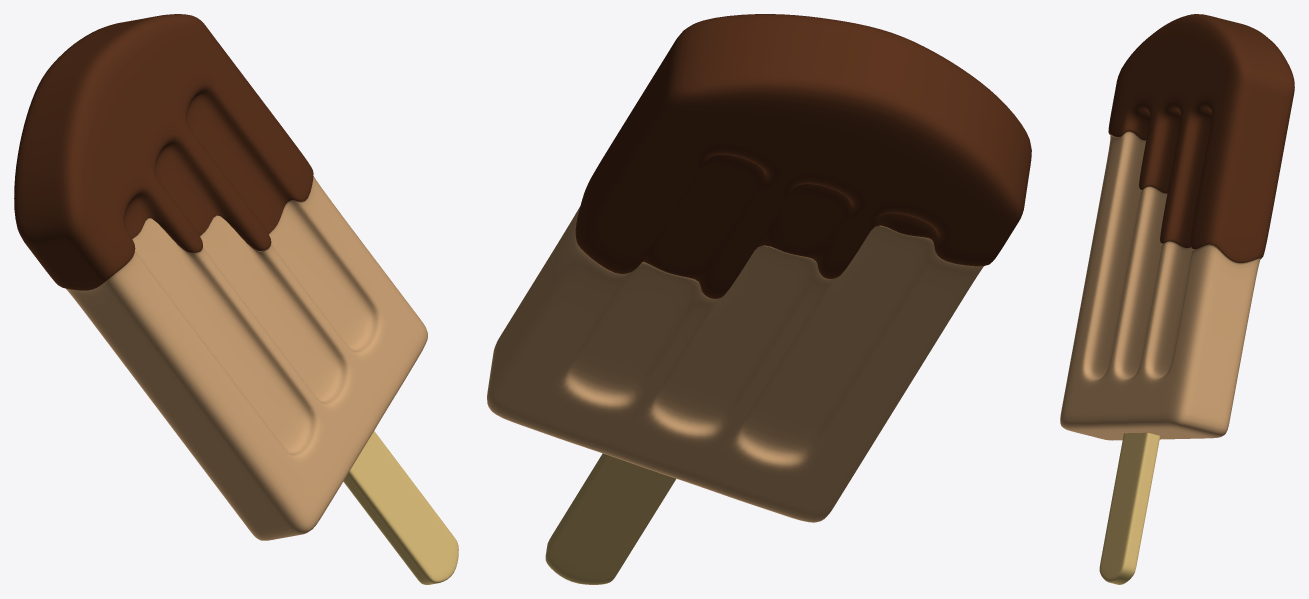
The model's file is ice_cream.glb.
3 renders of one model, left to right at view 1: azimuth 30°, elevation 25°; view 2: azimuth 150°, elevation 25°; view 3: azimuth 270°, elevation 25°, orthographic. The views are drawn at different scales.
Size of the model in its own units: 1.05 by 1.36 by 0.6254.
